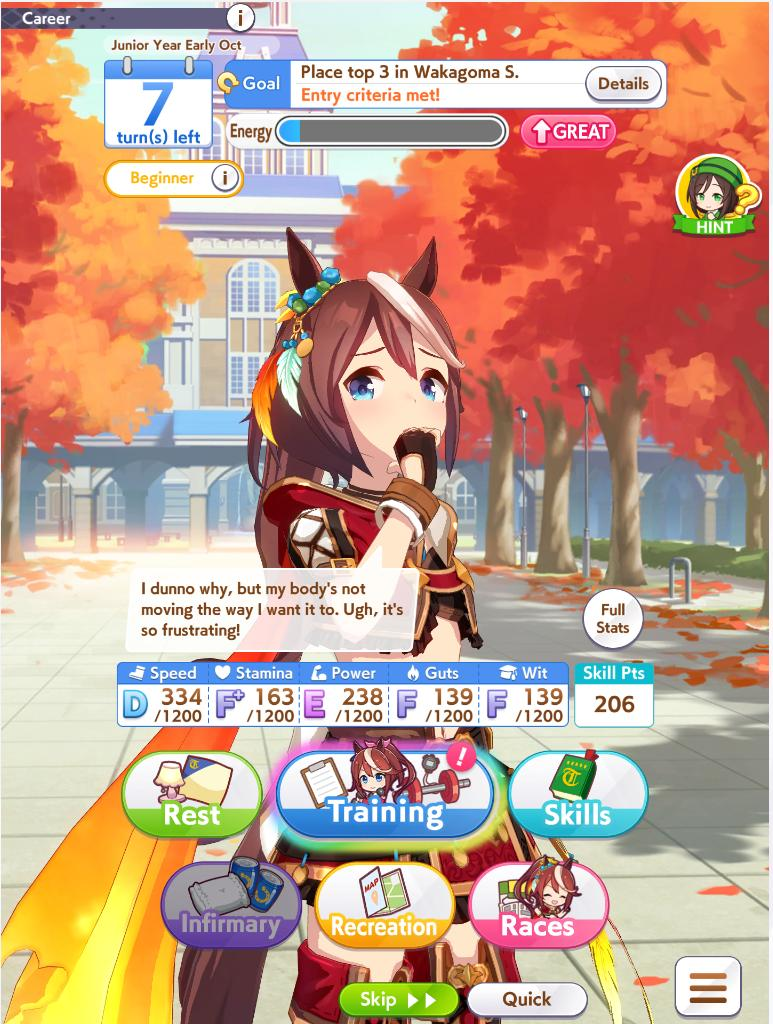Energy: (225, 111, 509, 154)
Great: (520, 113, 621, 151)
Race: (480, 867, 604, 948)
recreation: (318, 867, 453, 945)
rest: (121, 751, 262, 838)
skill: (513, 750, 632, 834)
training: (284, 755, 483, 834)
turns: (100, 52, 213, 149)
